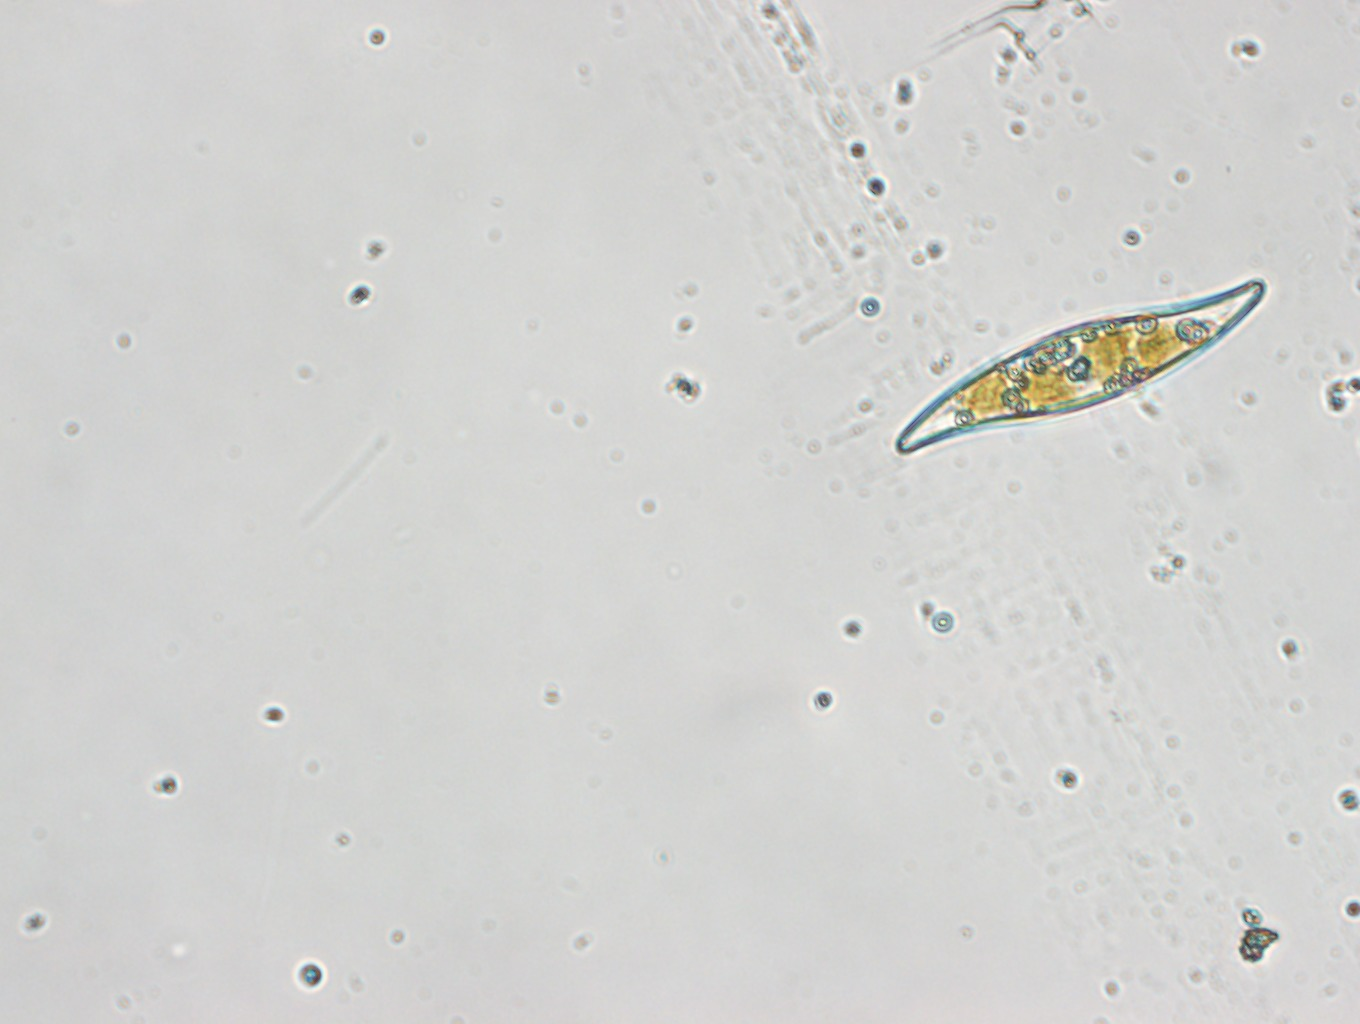pleurosigma pelagicum: (894, 274, 1271, 458)
